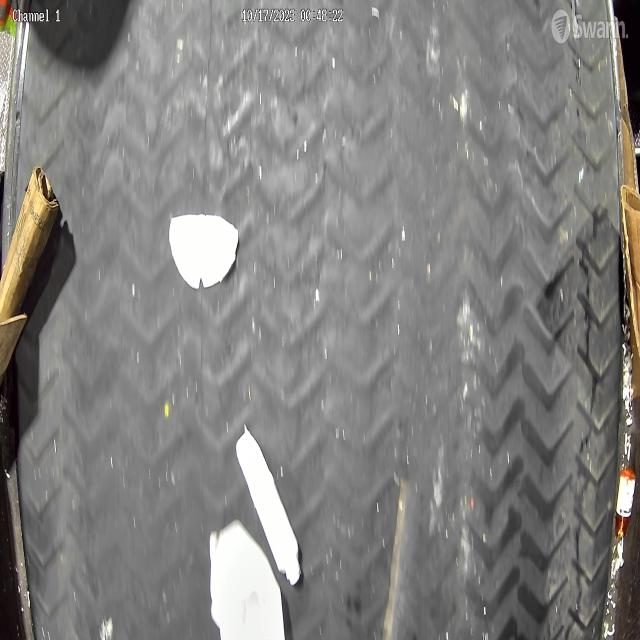milk_jug: (207, 518, 285, 640)
